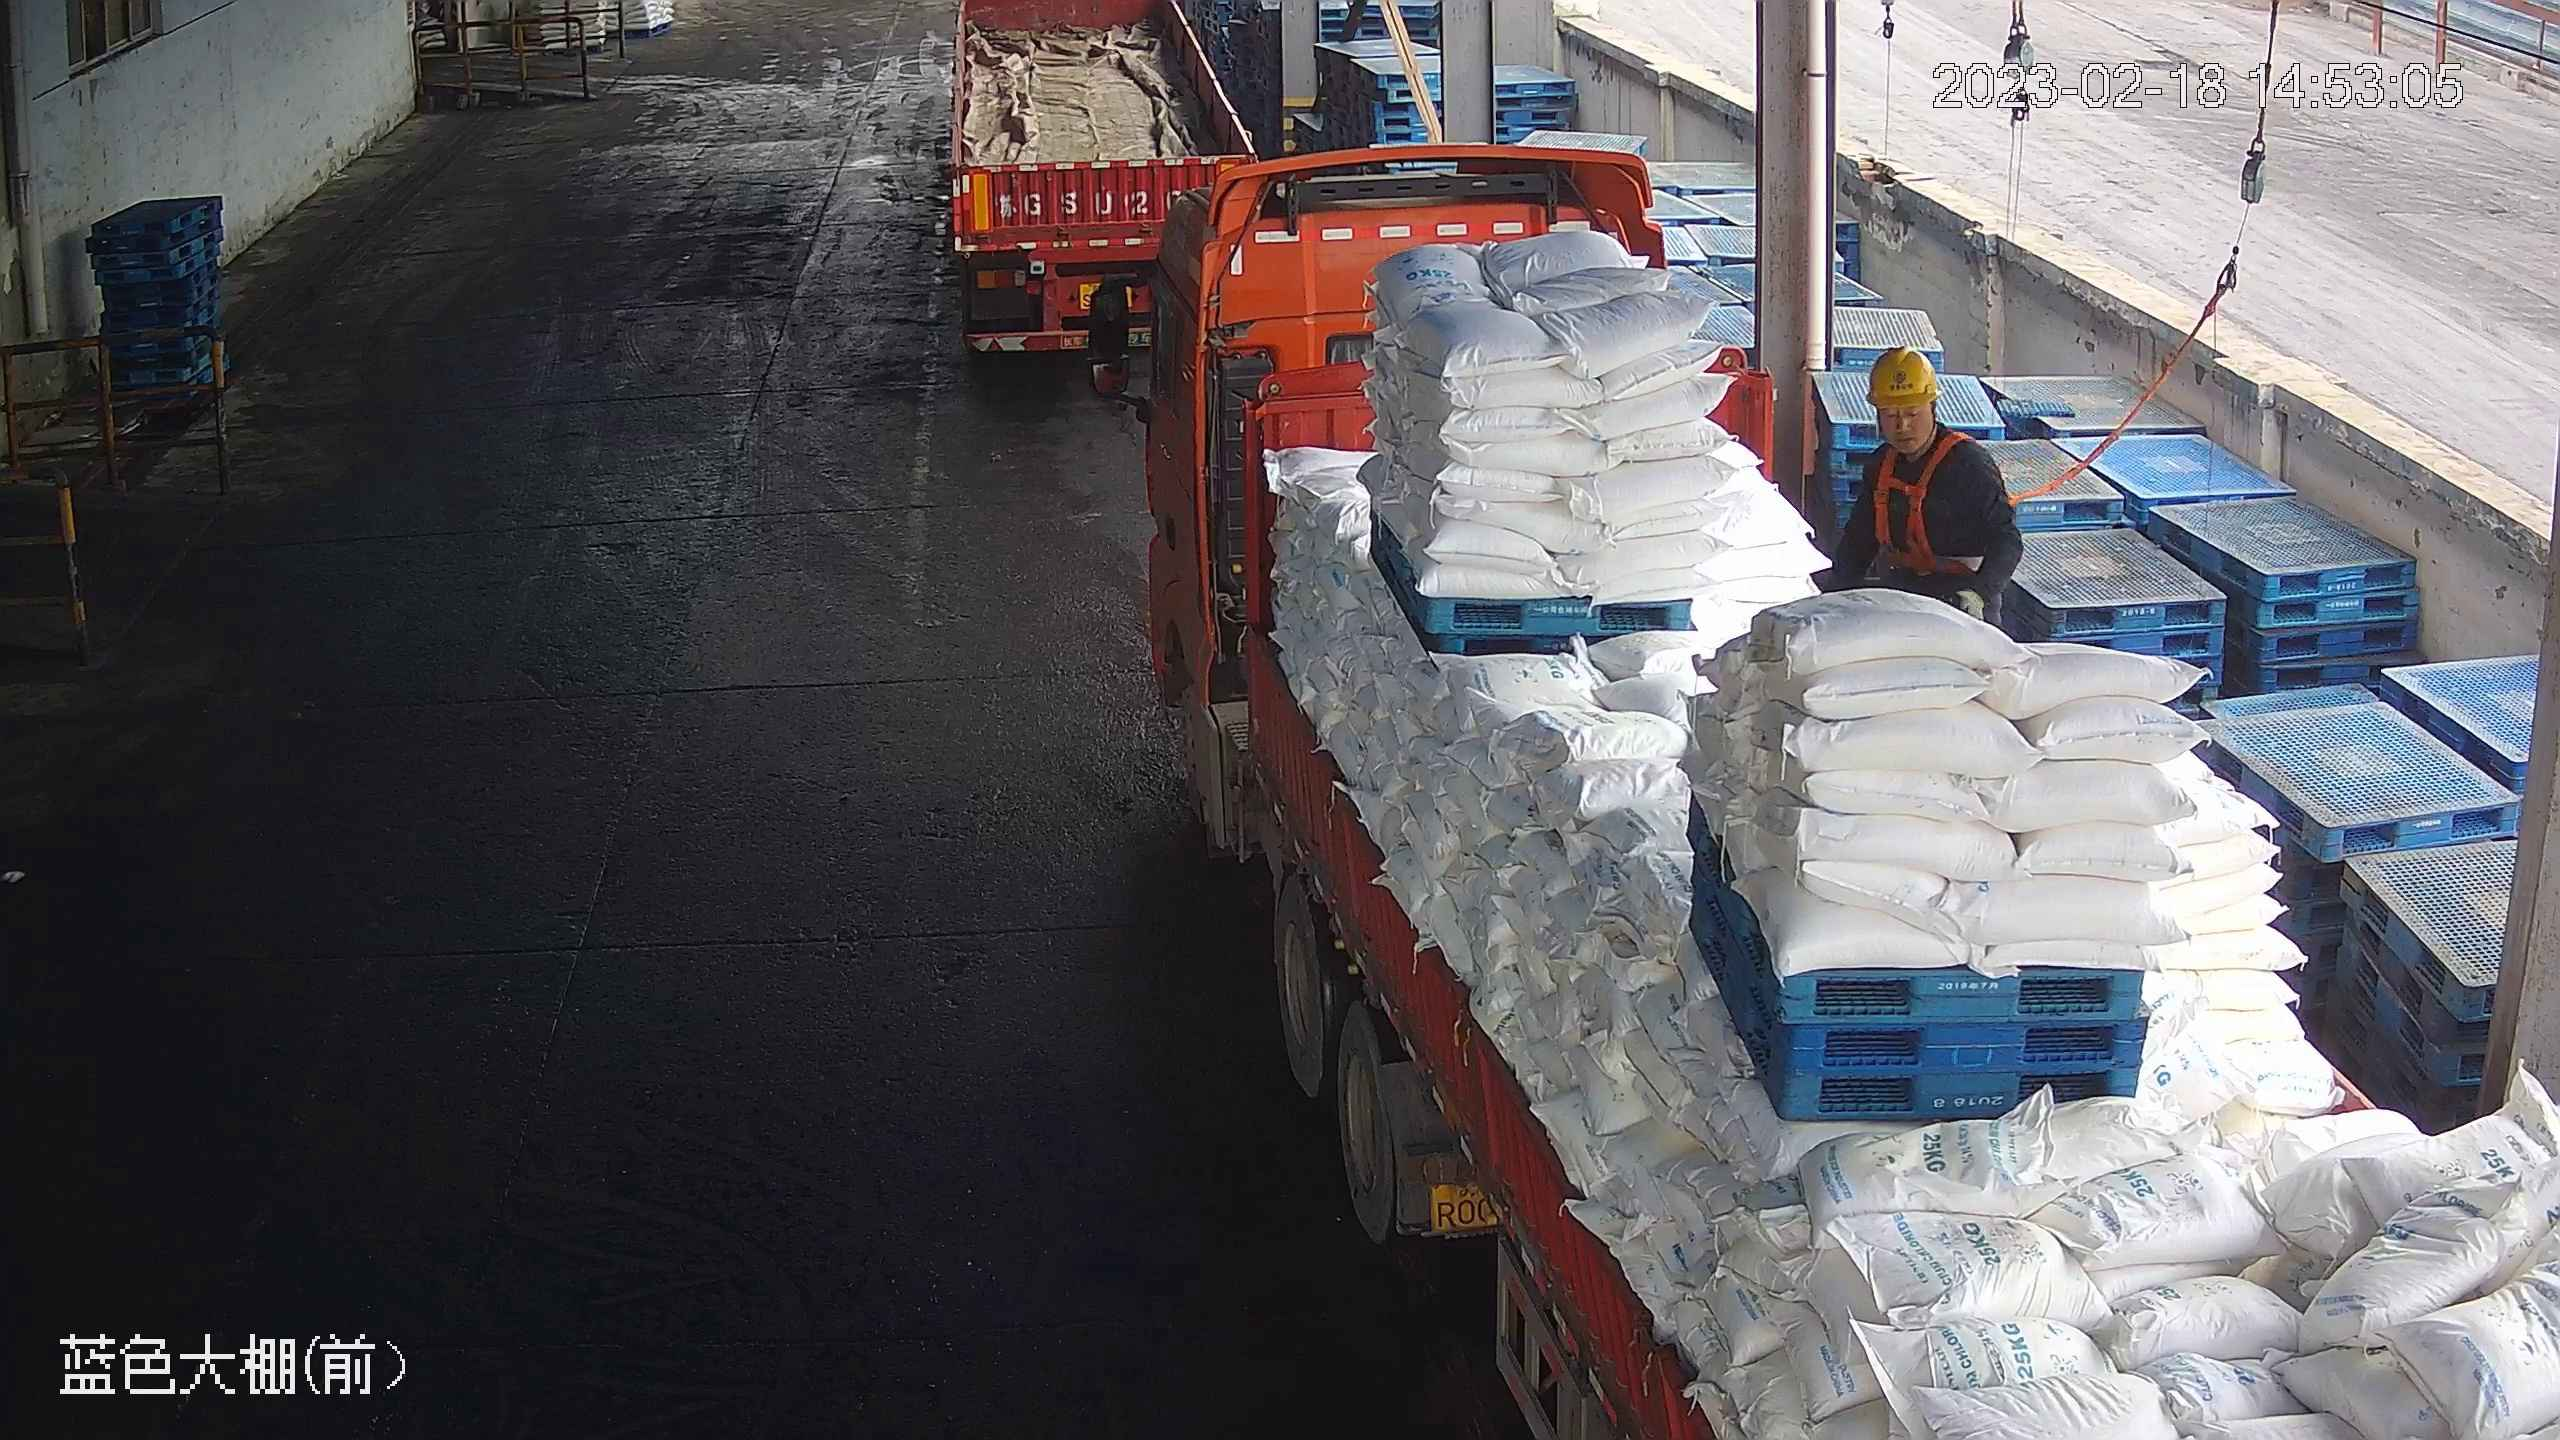belt: (1873, 432, 1977, 579)
head: (1843, 341, 2006, 517)
helmet: (1863, 343, 1943, 407)
truck: (1049, 156, 2554, 1440), (927, 1, 1270, 360)
